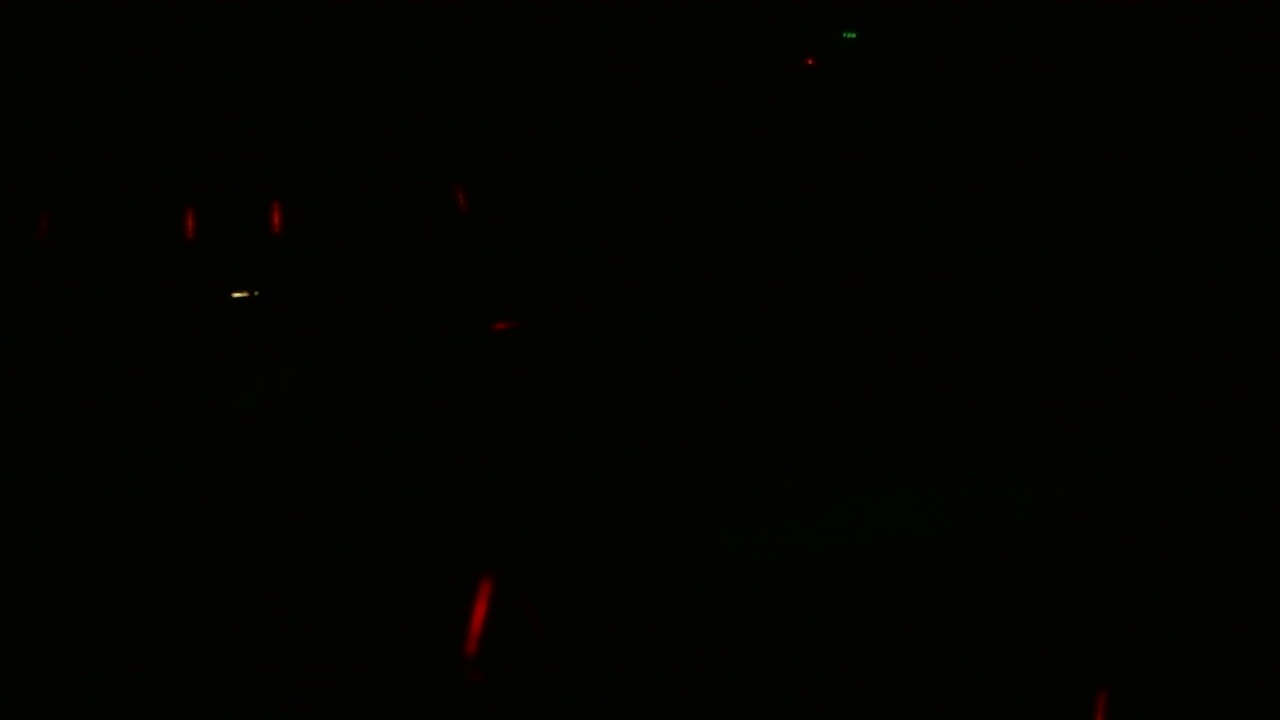pair1: (185, 203, 283, 241)
